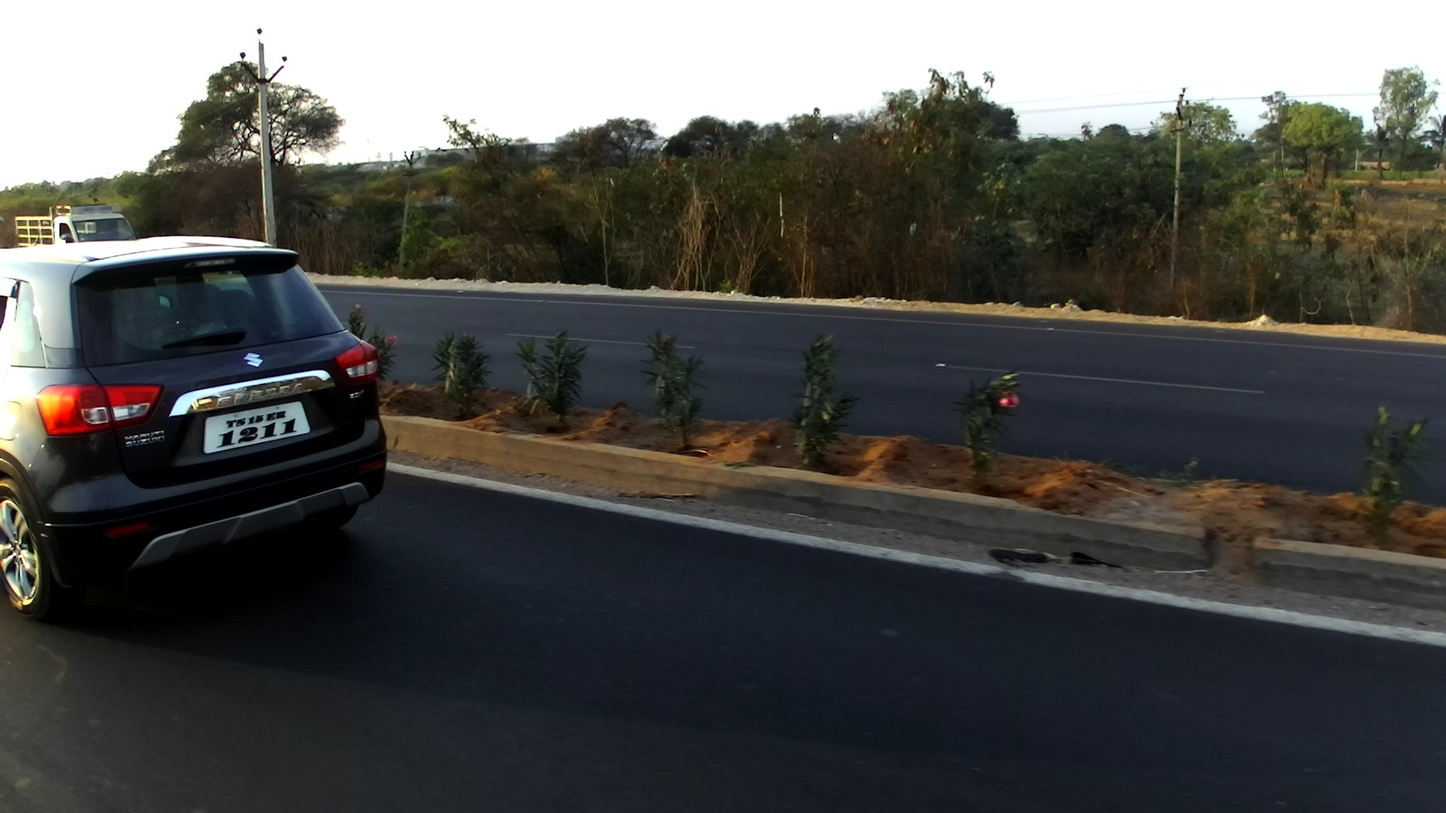car: (2, 233, 384, 616)
truck: (15, 203, 138, 263)
